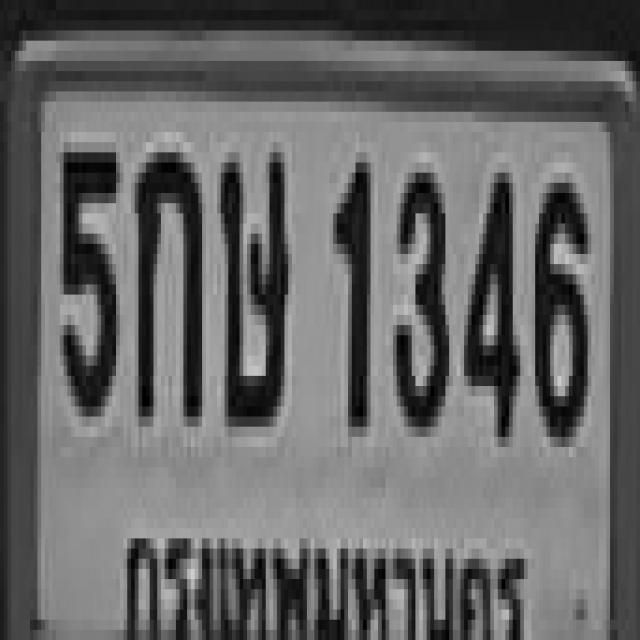1: (329, 152, 367, 416)
10GorGai: (131, 142, 198, 417)
3: (390, 162, 446, 426)
4: (461, 162, 516, 437)
48SorRueSi: (217, 142, 285, 417)
5: (56, 142, 116, 406)
6: (531, 173, 584, 437)
Bangkok: (107, 480, 546, 640)
